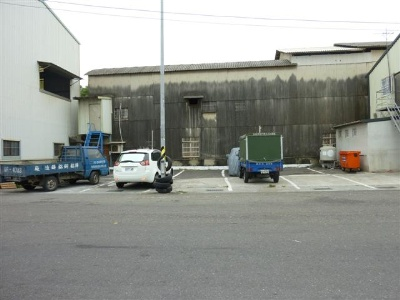tire: (154, 172, 174, 182), (154, 180, 170, 189)
water_tower: (319, 143, 338, 171)
